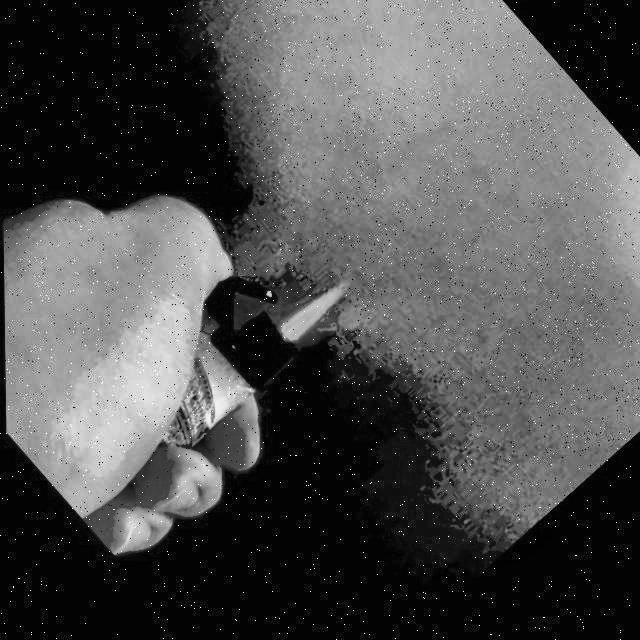Fire: (272, 275, 357, 357)
